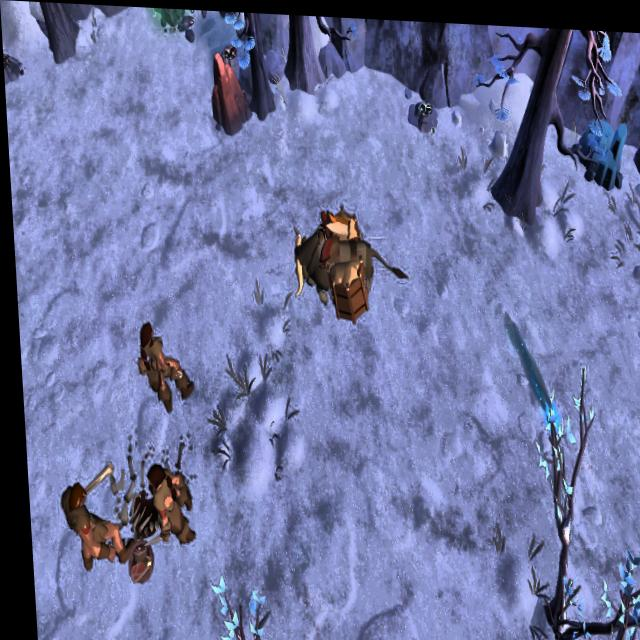enemy_factionKeeper: (52, 458, 124, 576), (131, 315, 189, 412), (141, 460, 192, 545)
rock_t4: (575, 109, 633, 183)
rock_t5: (205, 54, 253, 133)
